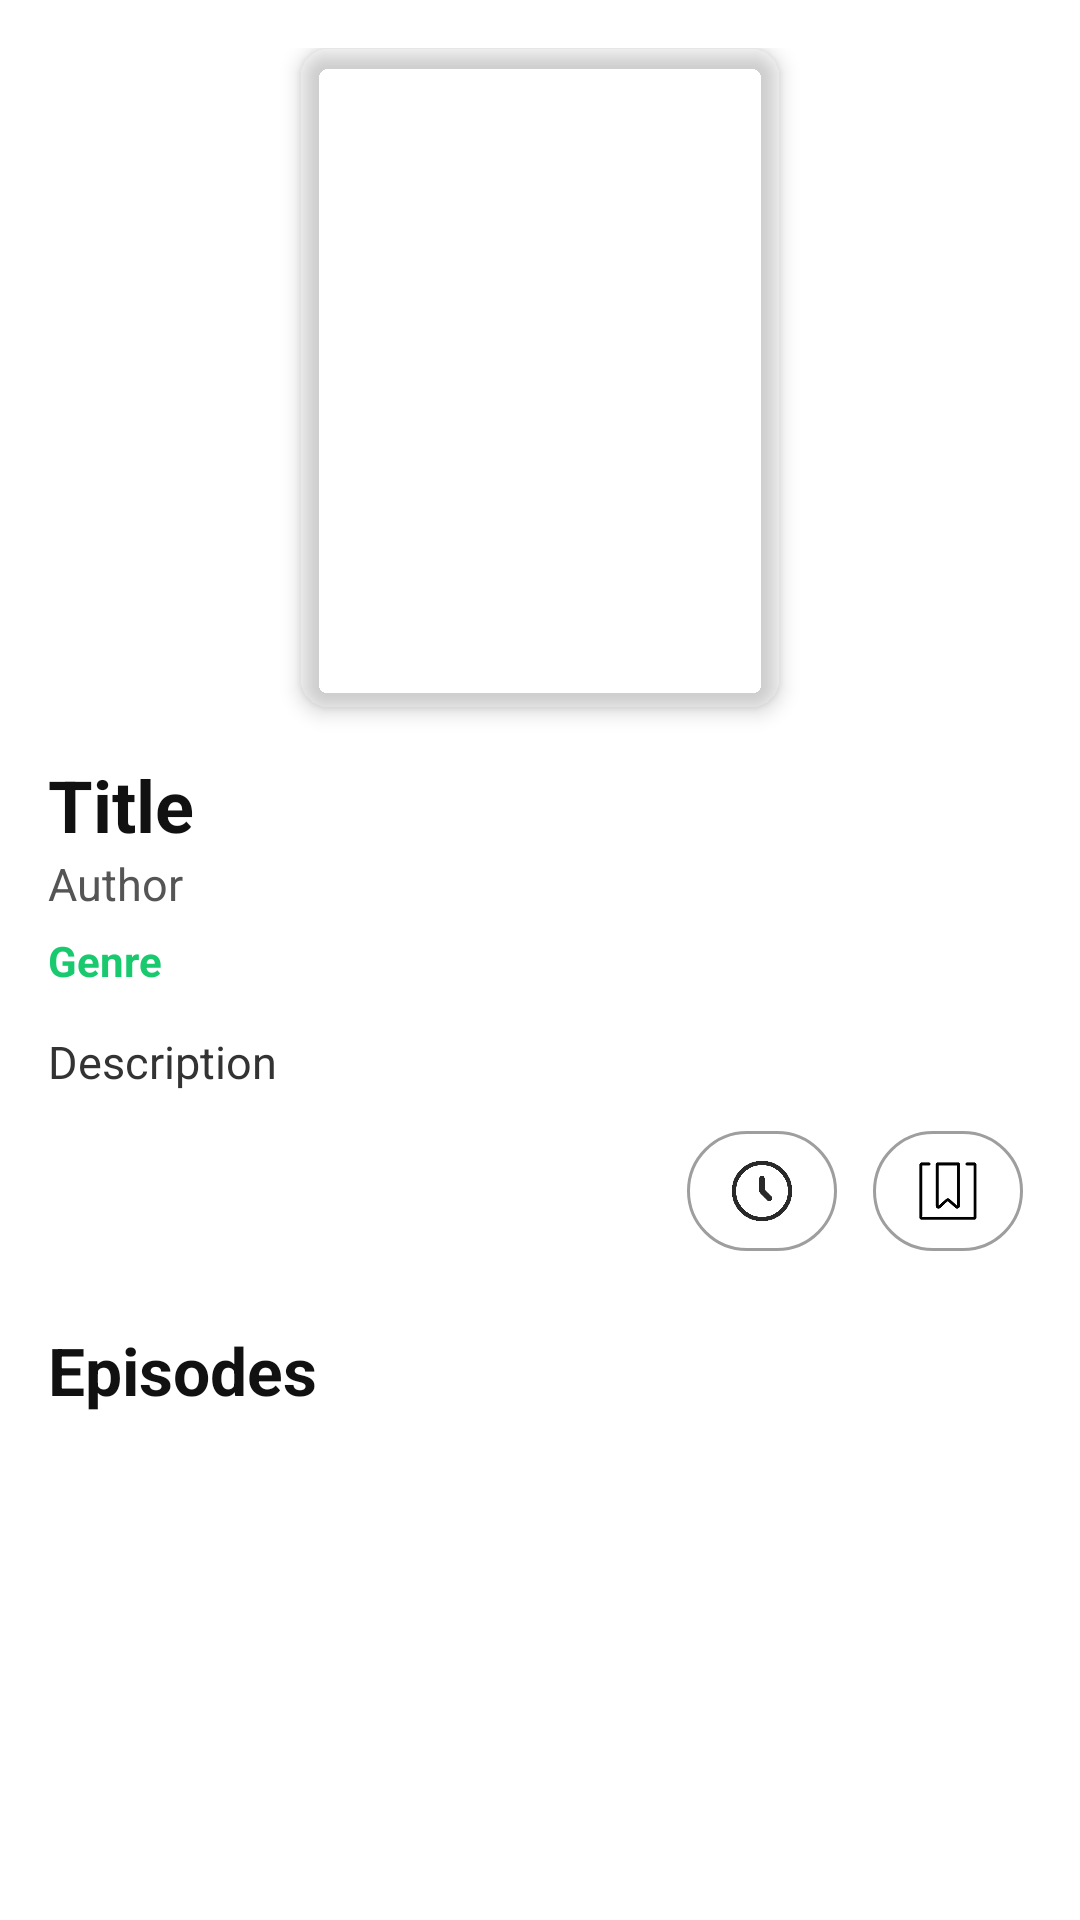

Named icons in this screenshot (1080px x 1920px) and their bounding boxes, [x1,y1,x2,y2]:
Bookmark: [873,1131,1023,1251]
Read later: [687,1131,837,1251]
